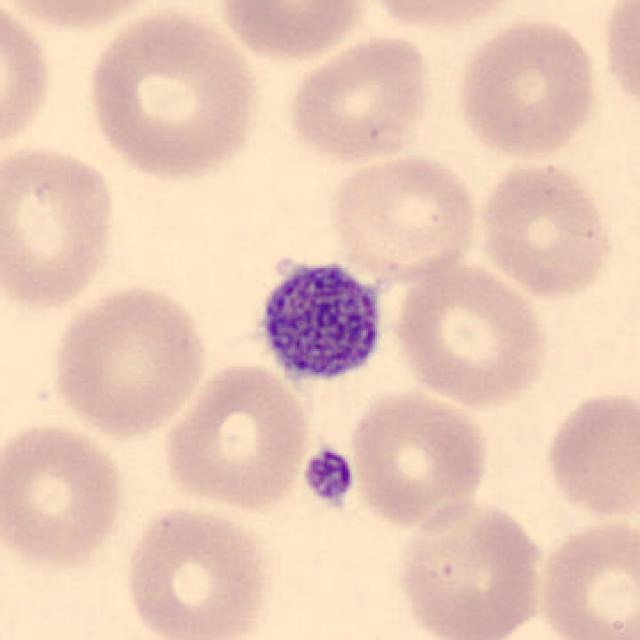Platelets: (254, 256, 387, 384), (298, 444, 356, 508)
RBC: (80, 4, 263, 185), (46, 280, 212, 441), (389, 261, 553, 411), (158, 360, 313, 513), (452, 14, 604, 164), (393, 495, 547, 640), (0, 139, 123, 314), (473, 157, 619, 301), (121, 502, 272, 640), (282, 31, 436, 166), (347, 386, 492, 529), (325, 148, 482, 280), (0, 418, 130, 571), (540, 384, 638, 526), (534, 515, 638, 640), (215, 0, 368, 63), (0, 0, 57, 164), (0, 0, 174, 35), (355, 0, 528, 35), (597, 0, 640, 122)
